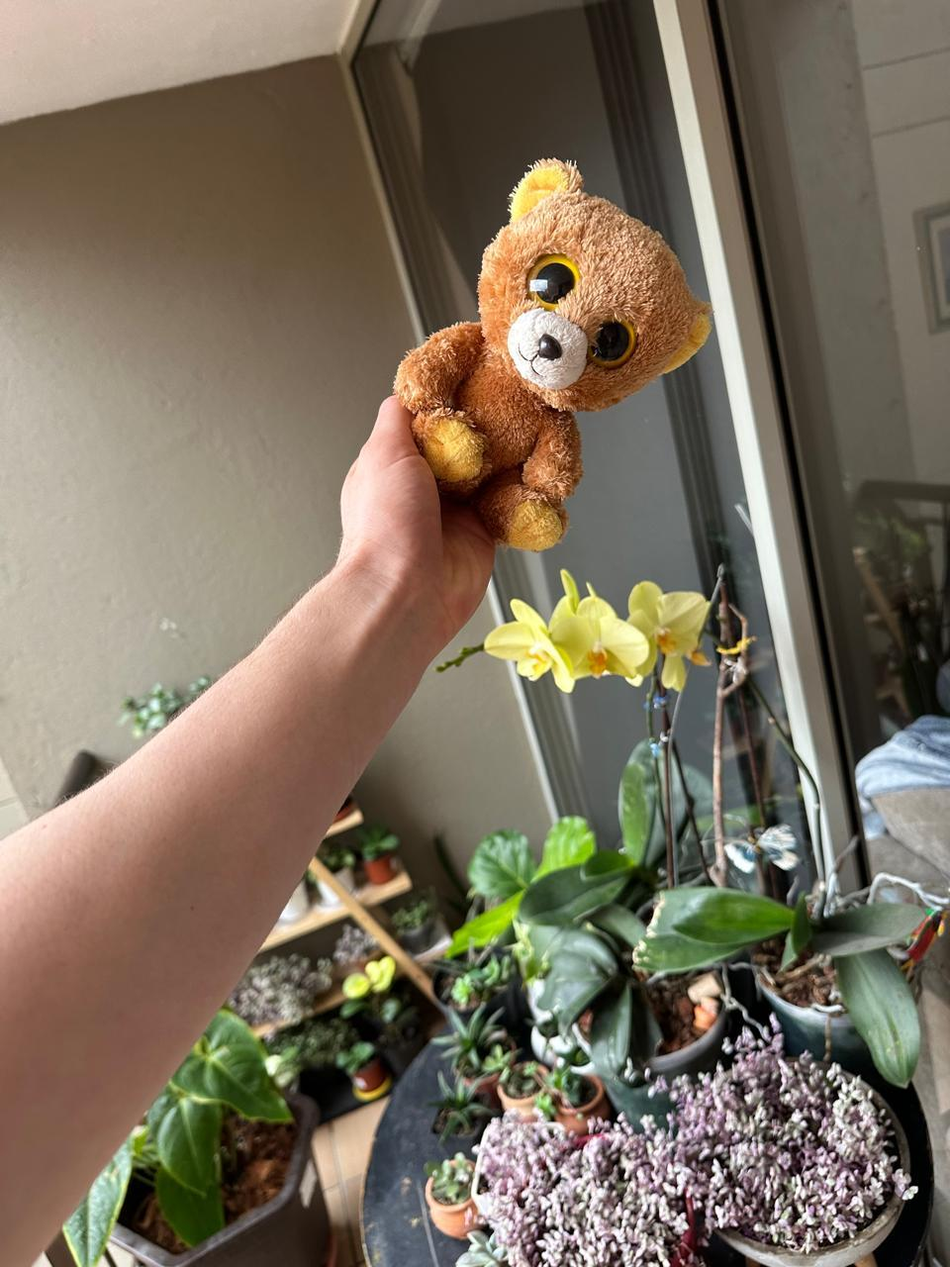peluche_sebastian: (393, 158, 715, 559)
